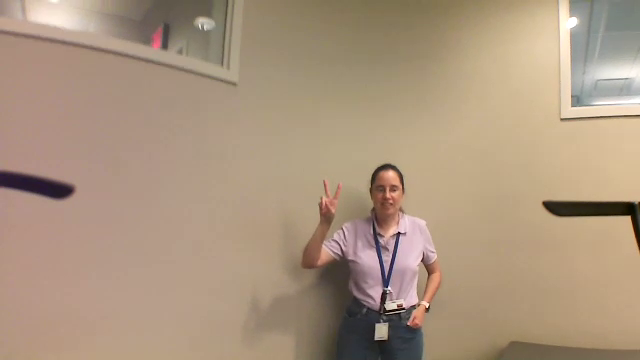peace: (315, 172, 344, 227)
